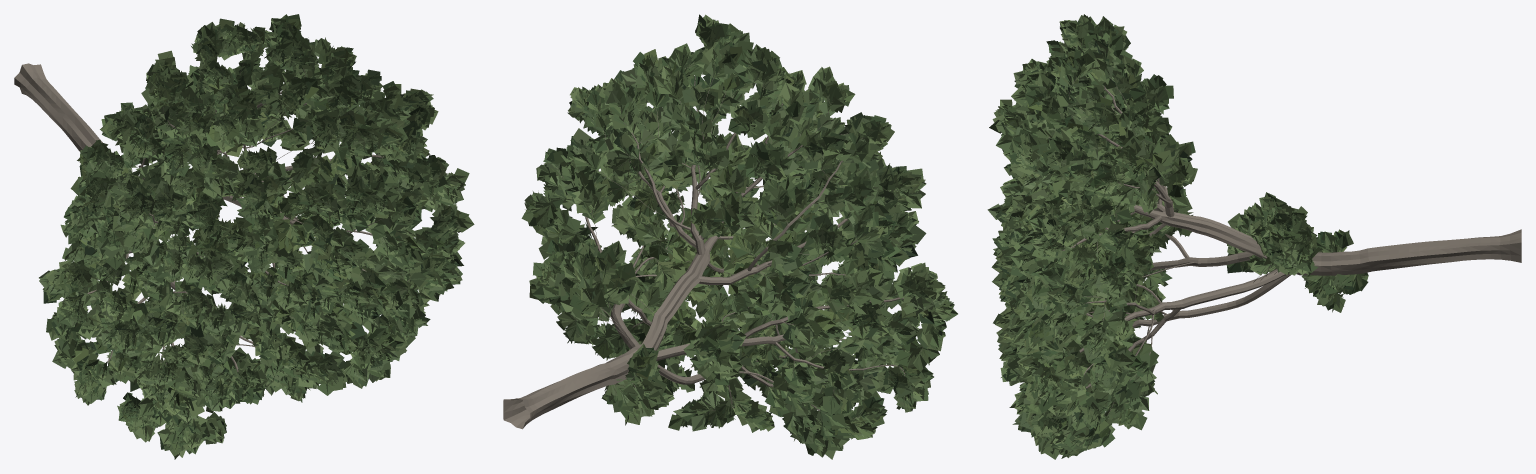
The model's file is tree_near_13.obj.
The picture shows the model from 3 angles, left to right: view 1: azimuth 30°, elevation 25°; view 2: azimuth 150°, elevation 25°; view 3: azimuth 270°, elevation 25°; orthographic projection. The views are drawn at different scales.
Parts seen in each view (by area): view 1: tree_near_13; view 2: tree_near_13; view 3: tree_near_13.
Part boxes in pixels (<box>): tree_near_13: <box>14,14,474,459</box>; tree_near_13: <box>503,14,957,459</box>; tree_near_13: <box>987,14,1521,459</box>.
Bounding box in the file's own units: 0.8848 × 0.8416 × 0.9986.
1 material, 1 textured.
